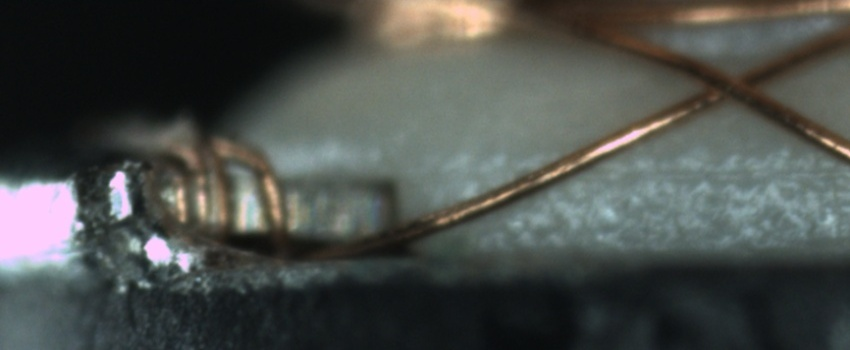CL: (684, 54, 779, 114)
DL: (491, 140, 850, 204)
TE: (151, 128, 318, 267)
